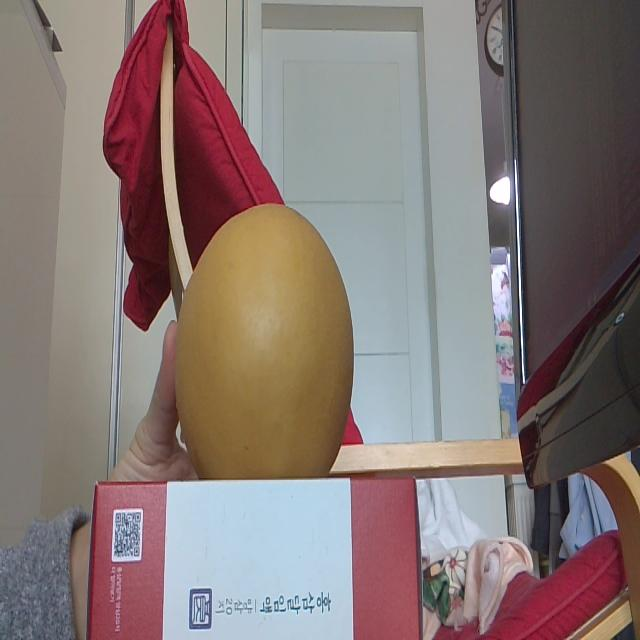pear: (174, 200, 355, 478)
